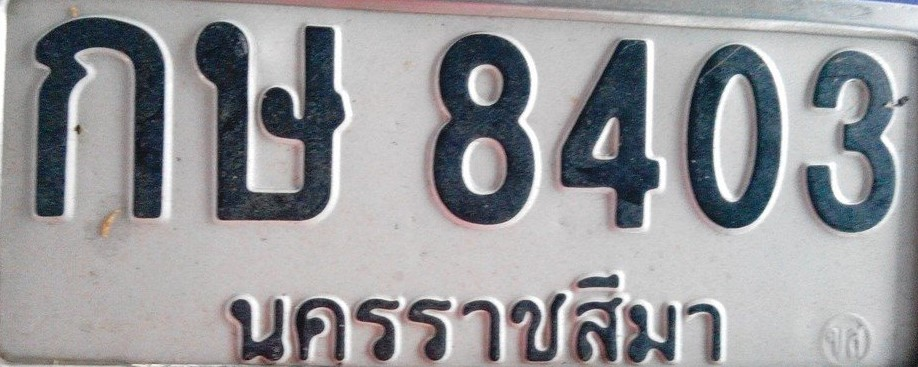txt01: (22, 11, 175, 227)
txt34: (187, 15, 352, 228)
